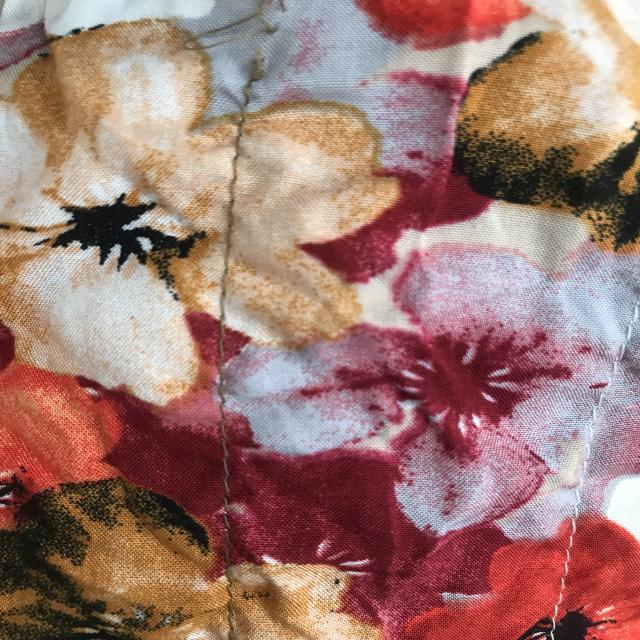good: (202, 422, 262, 558), (553, 527, 582, 610)
